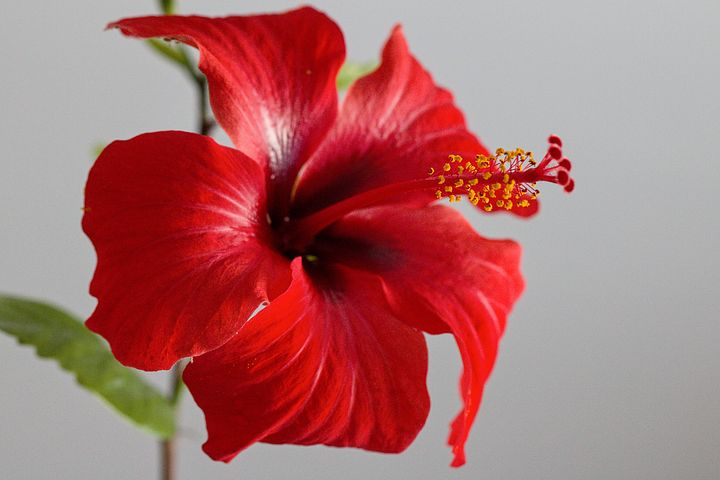Hibiscus: (85, 6, 607, 471)
